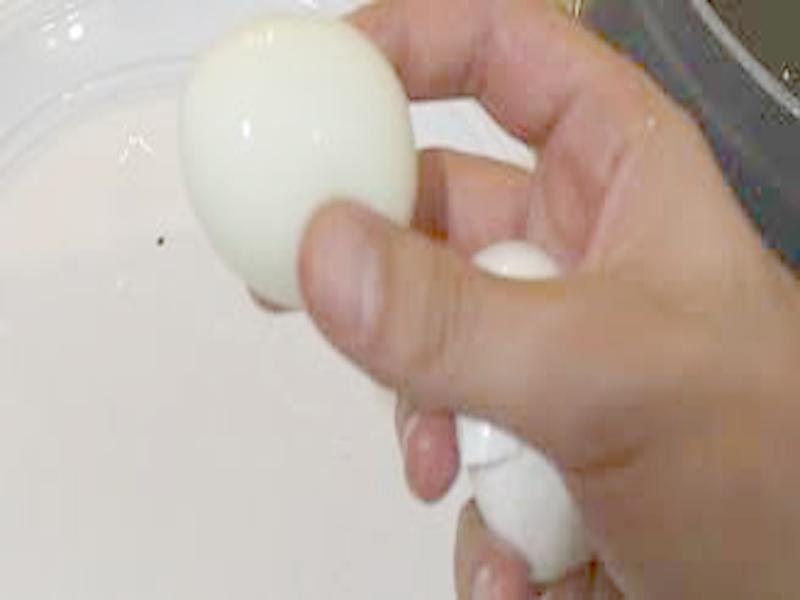Eggs: (184, 4, 416, 312)
